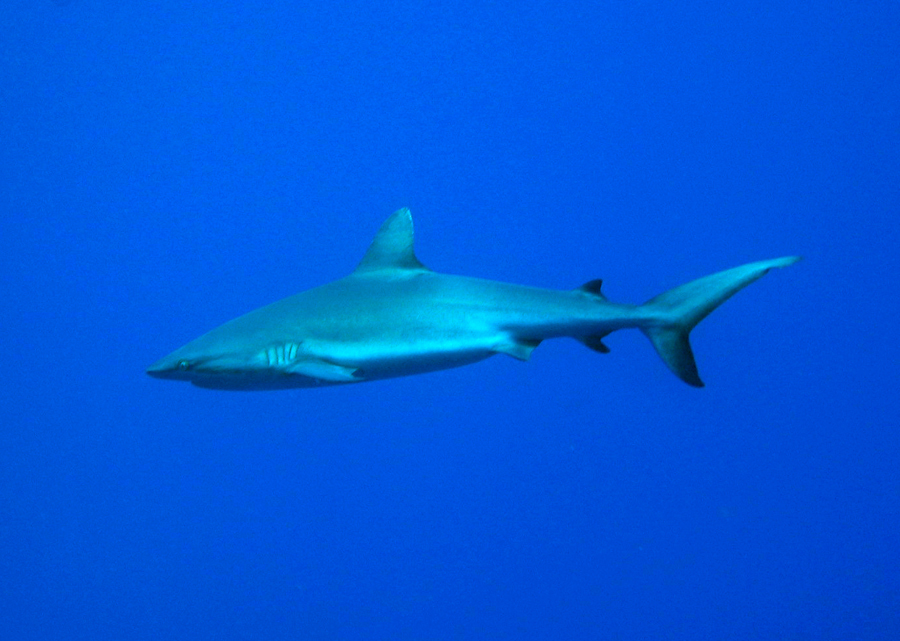Carcharhinus_amblyrhynchos: (136, 196, 806, 422)
